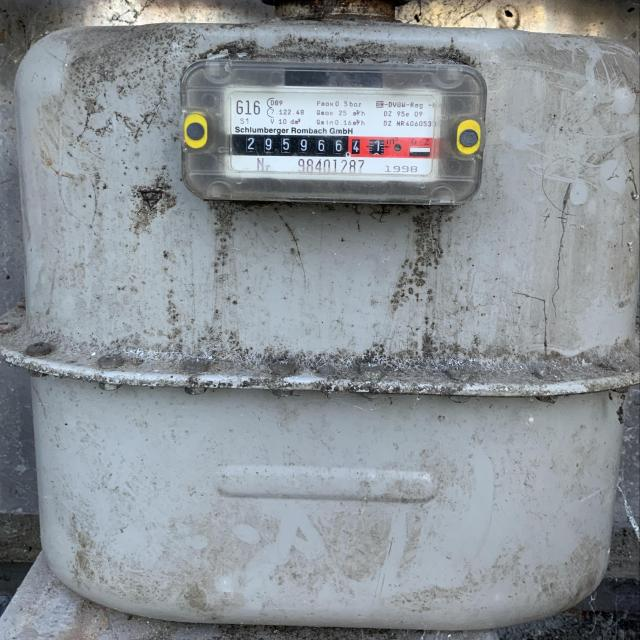gaz_meter: (225, 83, 440, 182)
indication: (231, 134, 389, 160)
